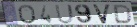4: (40, 5, 55, 25)
9: (74, 4, 94, 25)
D: (113, 4, 132, 24)
O: (17, 4, 38, 25)
U: (55, 4, 76, 25)
V: (91, 4, 113, 25)
